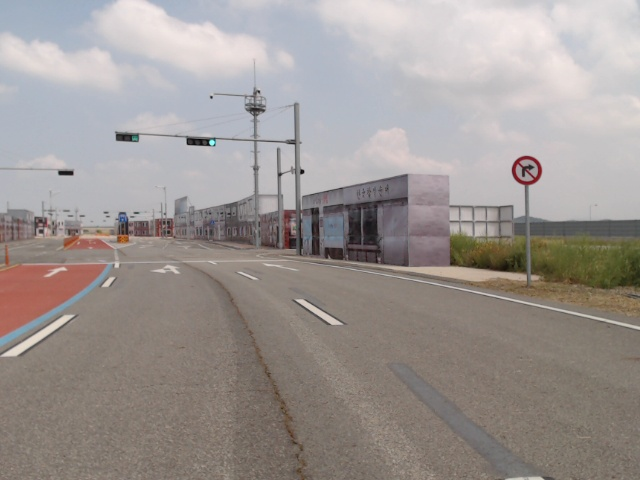straight_green_4: (186, 137, 216, 146)
